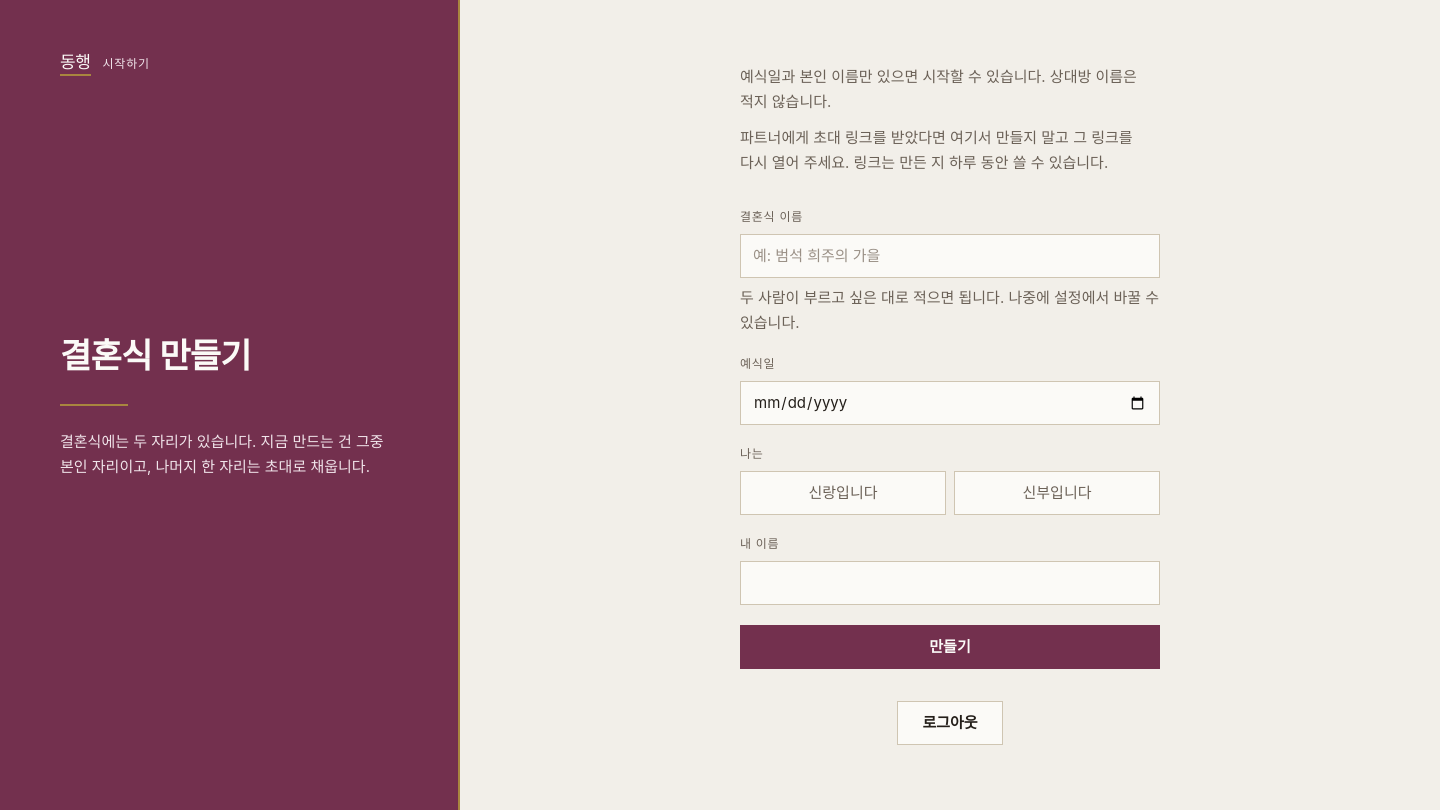
Test: lets a person with no wedding sign out, because this screen is where they are parked
The width and height of the screenshot is (1440, 810).
Check: the date field labelled "예식일" is shown, box x1=740 y1=381 x2=1160 y2=425
Click the button "로그아웃". click: (950, 723)
box: x1=897 y1=701 x2=1003 y2=745
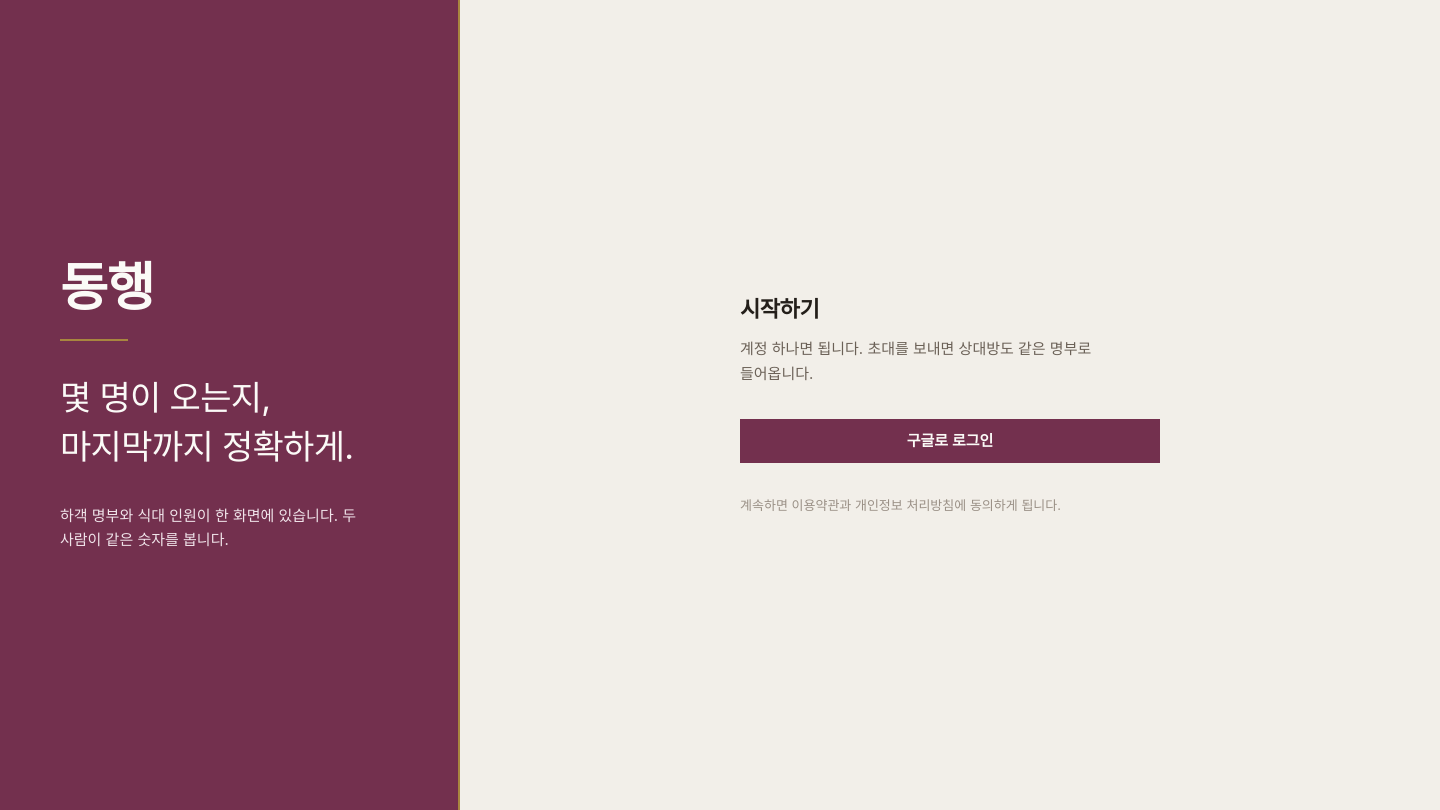
Check: the link "구글로 로그인" is shown, box x1=740 y1=419 x2=1160 y2=463
